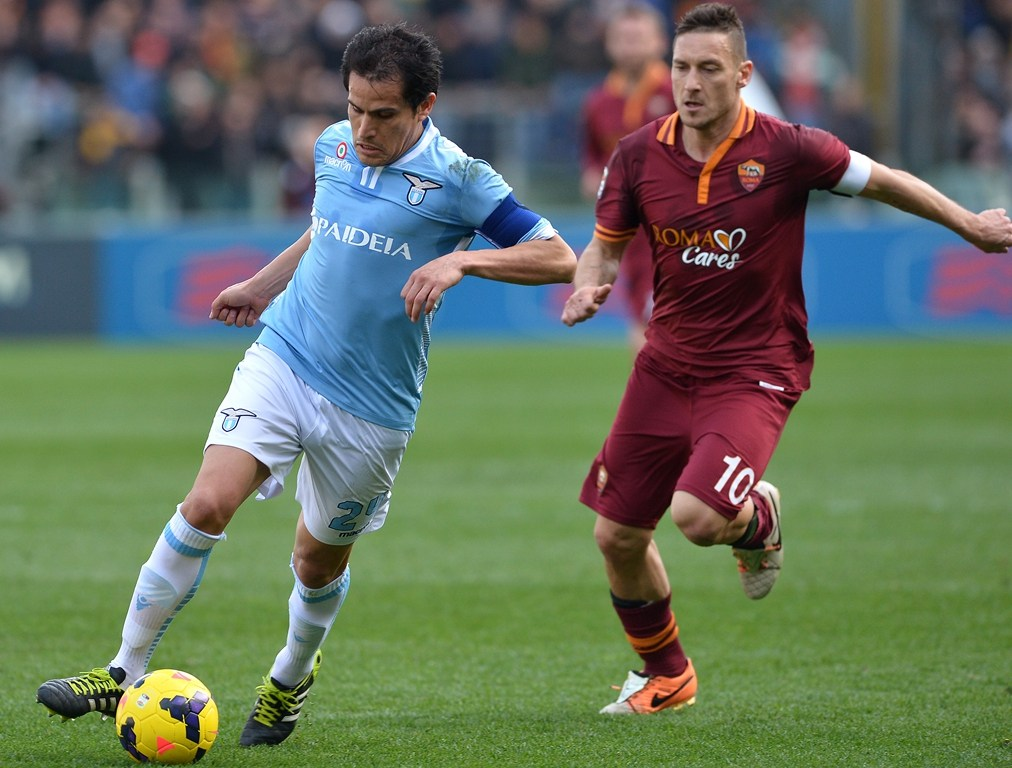ball: (113, 666, 220, 768)
